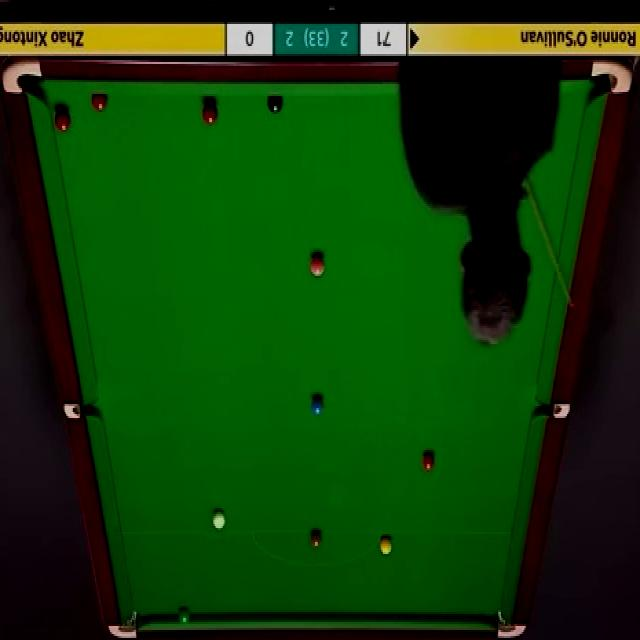pocket: (0, 55, 45, 97), (591, 60, 634, 97), (108, 608, 140, 640), (495, 611, 528, 638), (63, 403, 100, 422), (536, 402, 570, 418)
